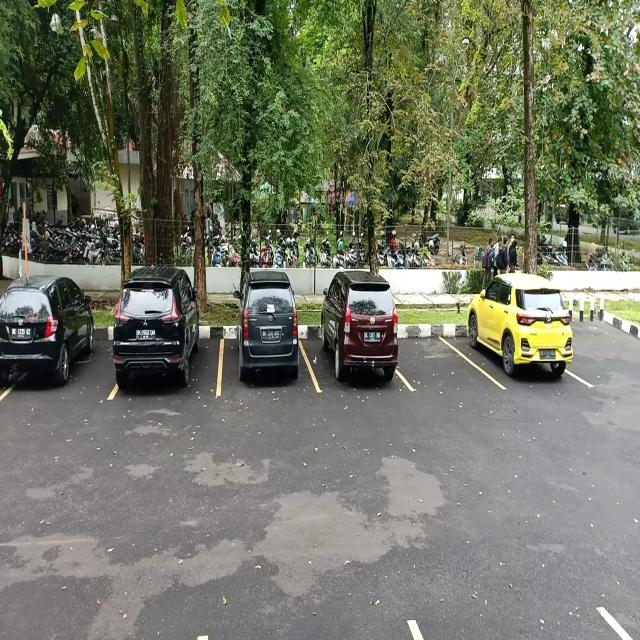empty: (402, 311, 480, 395)
occupied: (0, 296, 112, 402), (108, 298, 219, 399), (471, 297, 573, 391), (310, 306, 408, 392), (219, 307, 309, 400)
